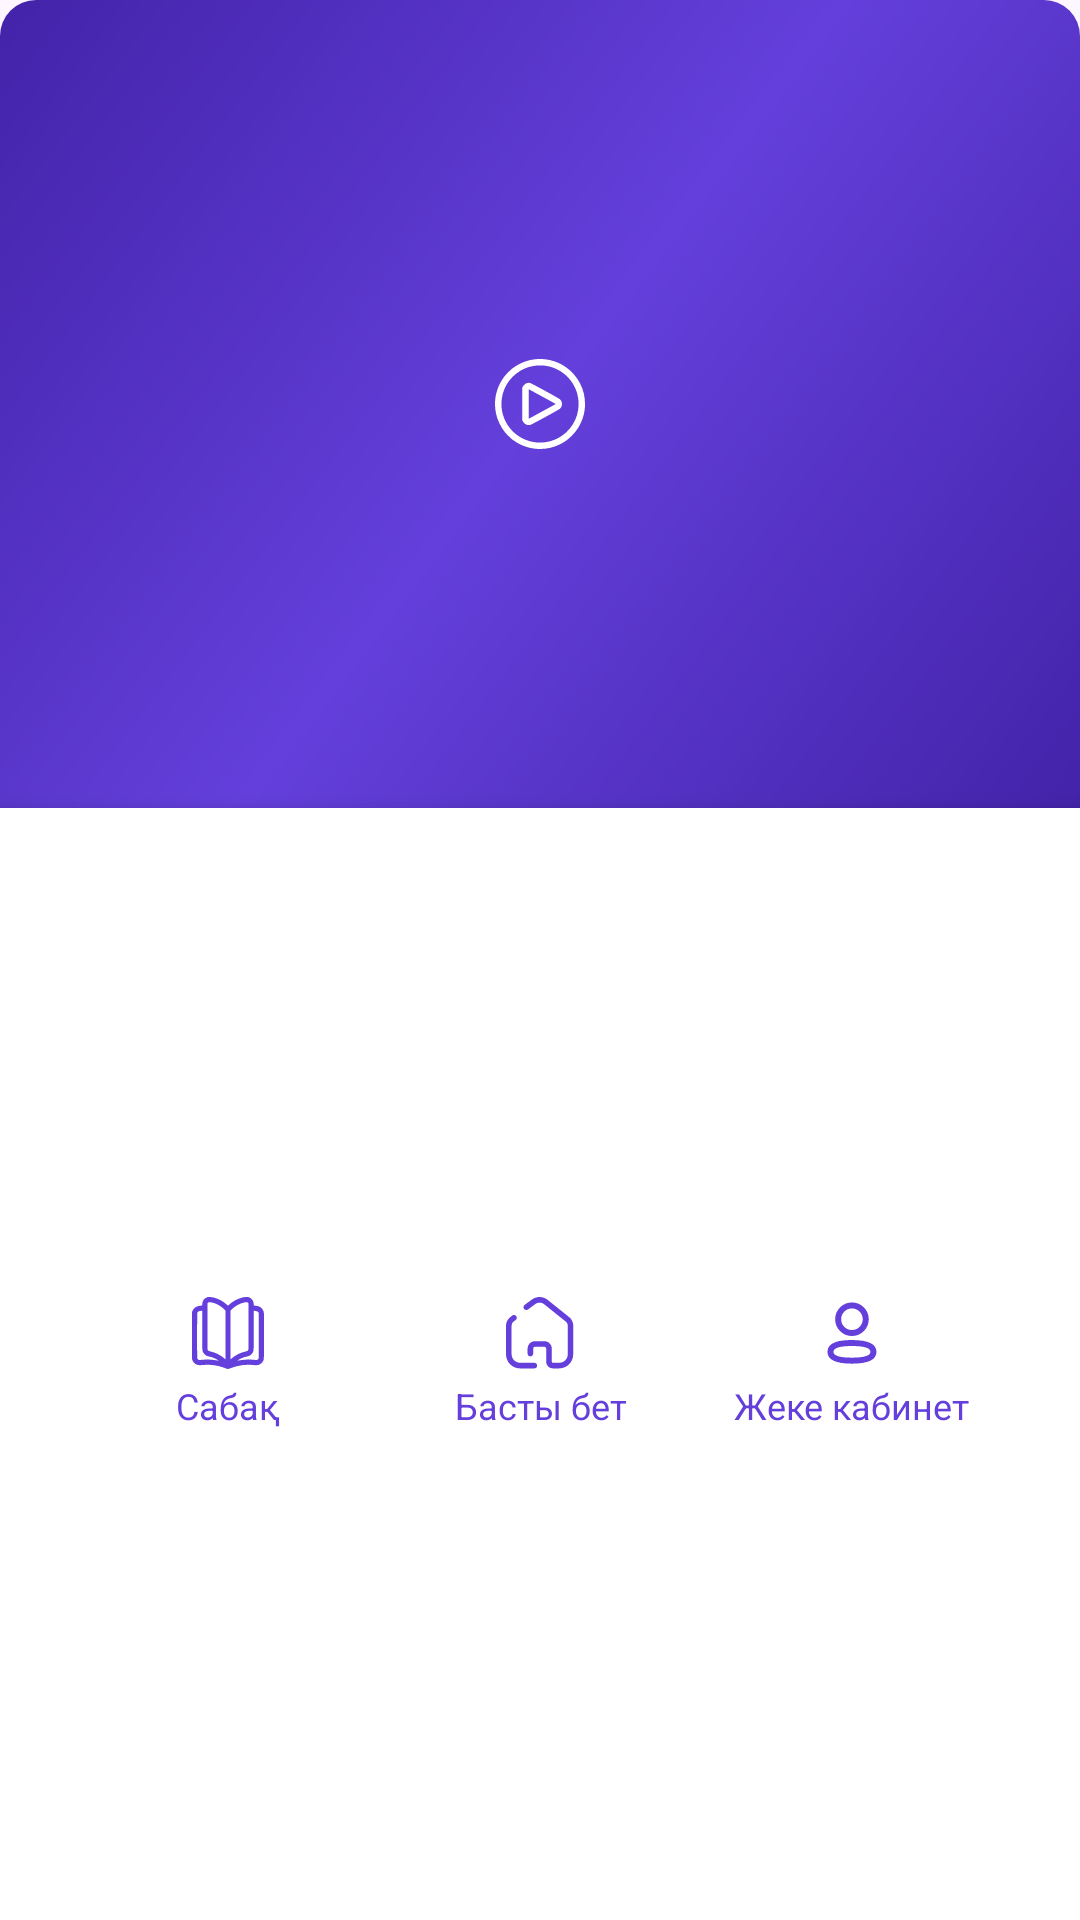

Point at icon controls on the screen. Image size 1080px×1920px, points as point (x, y).
Start: point (540, 404)
